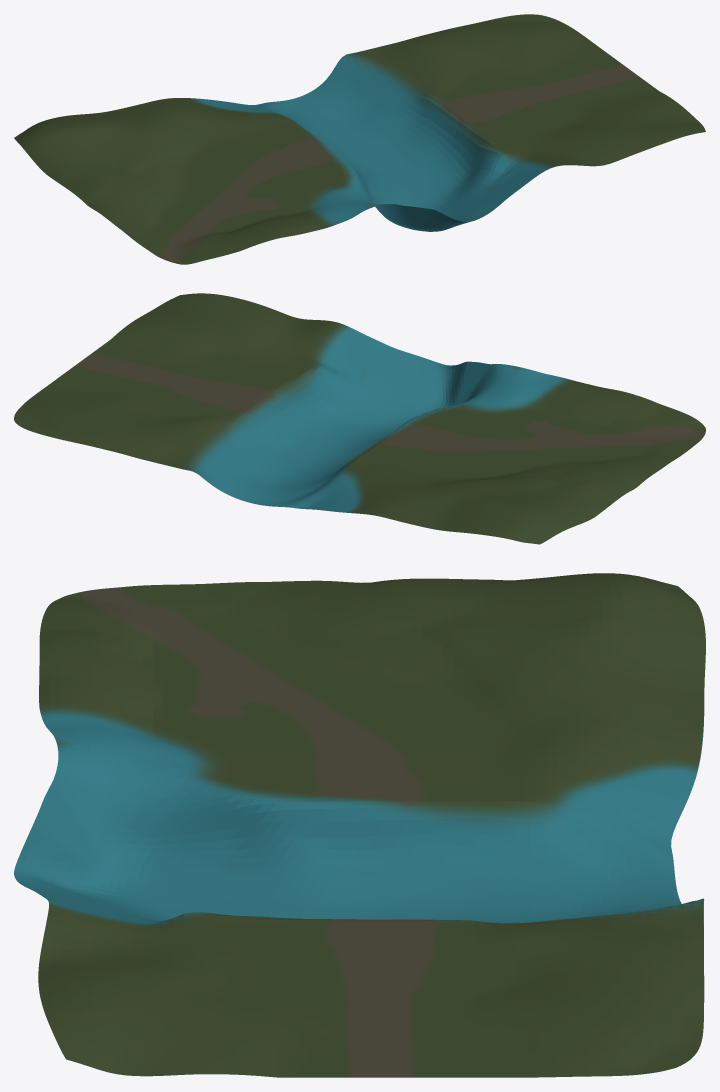
Rendered from Area 3 Map V1.fbx.
3 views of the same model, one above another, from view 1: azimuth 30°, elevation 25°; view 2: azimuth 150°, elevation 25°; view 3: azimuth 270°, elevation 25° (orthographic). The views are drawn at different scales.
Parts seen in each view (by area): view 1: Plane; view 2: Plane; view 3: Plane.
Part boxes in pixels (x1,y1,x2,y2): Plane: (14,14,705,264); Plane: (14,293,705,544); Plane: (14,573,705,1077).
Size of the model in its own units: 35026 by 20805 by 3502.
